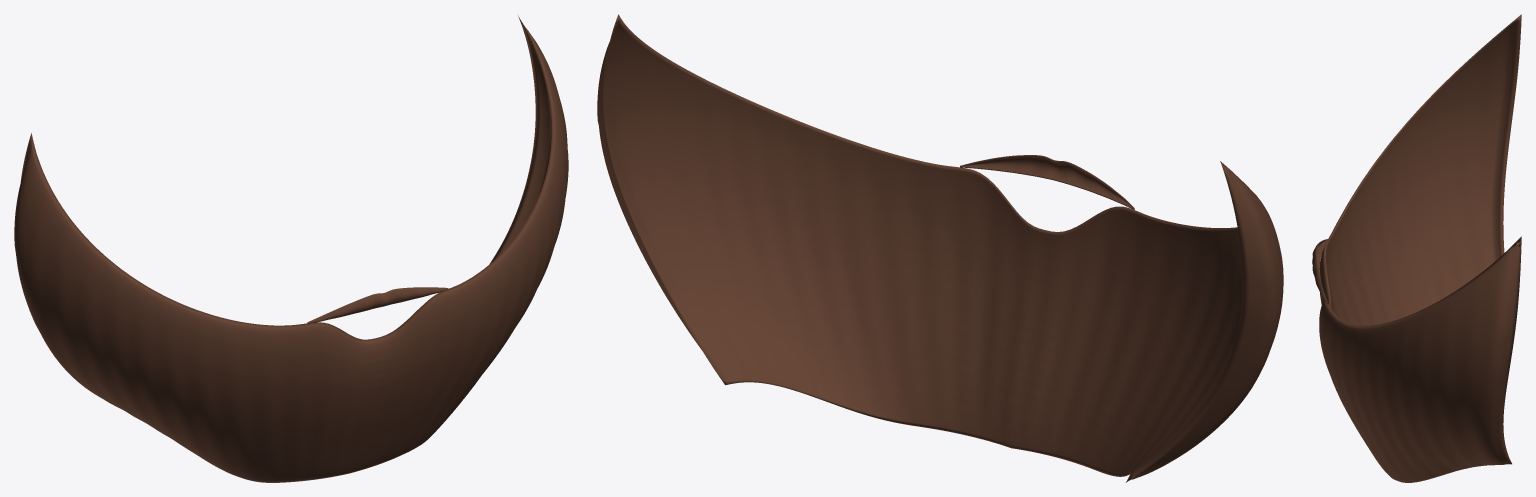
The model's file is Masculine-groom-full.glb.
3 renders of one model, left to right at view 1: azimuth 30°, elevation 25°; view 2: azimuth 150°, elevation 25°; view 3: azimuth 270°, elevation 25°, orthographic. The views are drawn at different scales.
Parts seen in each view (by area): view 1: Groom / full body183, Groom / shared mustache183; view 2: Groom / full body183, Groom / shared mustache183; view 3: Groom / full body183, Groom / shared mustache183.
Boxes of the visible parts, bbox=[...] form: Groom / full body183: bbox=[14, 15, 568, 482]; Groom / shared mustache183: bbox=[307, 287, 448, 323]; Groom / full body183: bbox=[597, 14, 1283, 482]; Groom / shared mustache183: bbox=[960, 155, 1134, 209]; Groom / full body183: bbox=[1319, 14, 1521, 482]; Groom / shared mustache183: bbox=[1312, 239, 1328, 304].
Size of the model in its own units: 1.01 by 0.6115 by 0.3589.
